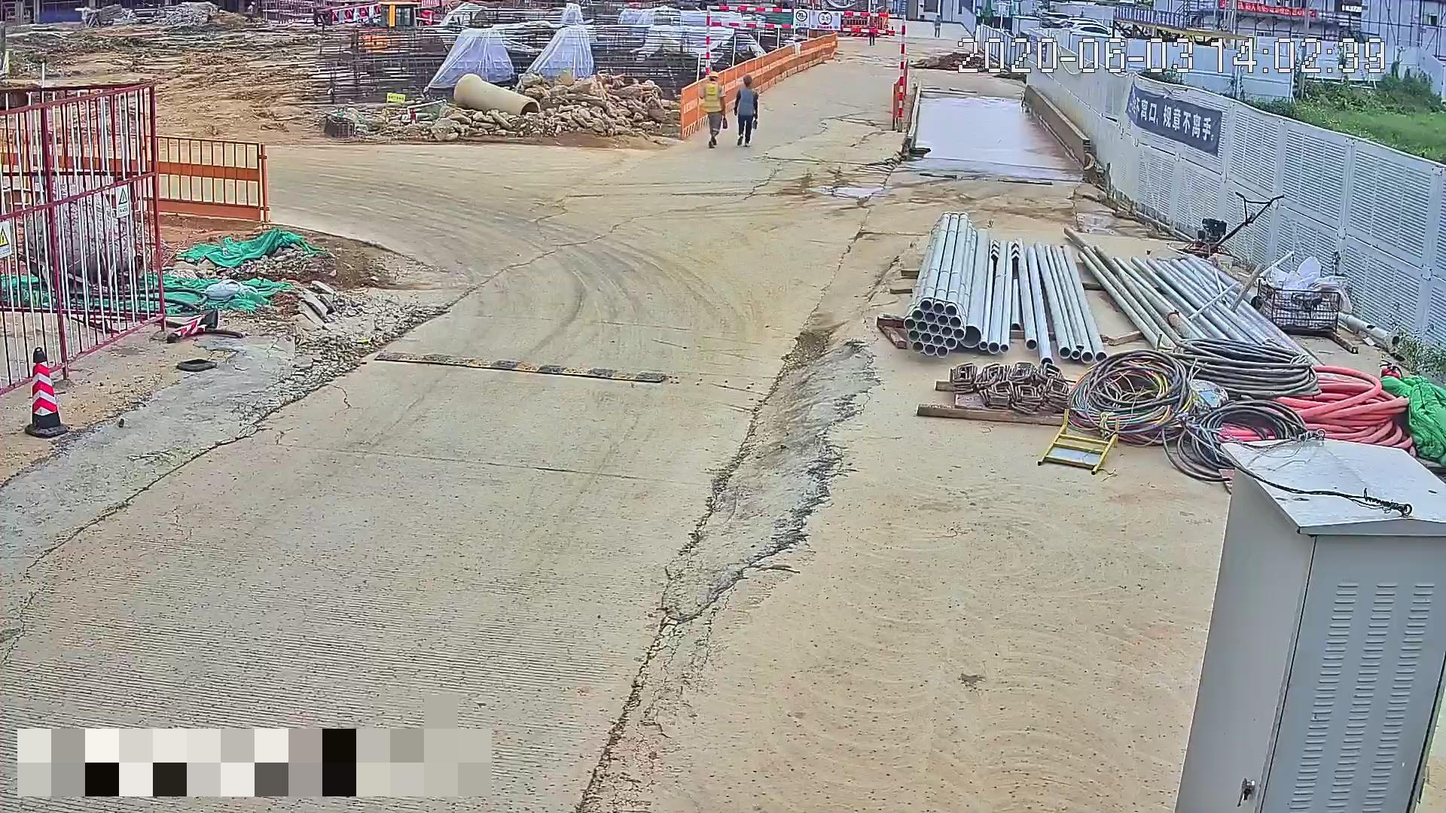hat: (708, 70, 719, 81)
person: (698, 70, 728, 147), (735, 75, 761, 146)
